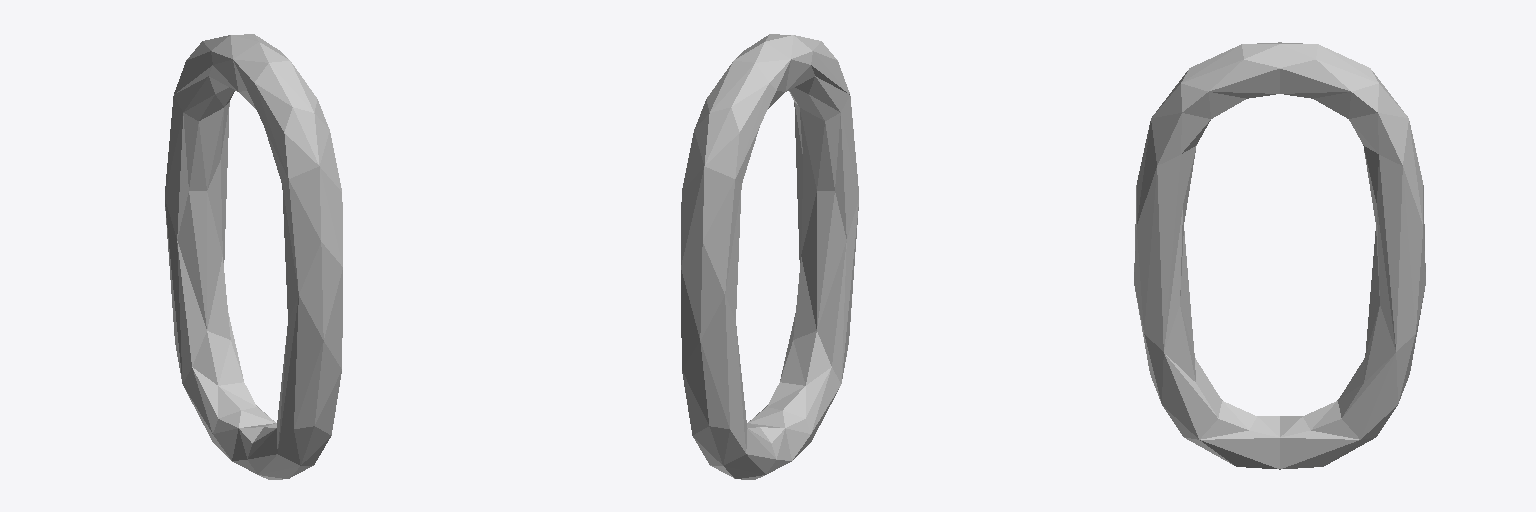
File: chain_link.obj
The picture shows the model from 3 angles: view 1: azimuth 30°, elevation 25°; view 2: azimuth 150°, elevation 25°; view 3: azimuth 270°, elevation 25°; orthographic projection.
Visible parts, largest first — view 1: chain_link; view 2: chain_link; view 3: chain_link.
Part boxes in pixels (bbox=[...]): chain_link: bbox=[165, 34, 342, 479]; chain_link: bbox=[681, 34, 858, 479]; chain_link: bbox=[1134, 42, 1425, 469].
Bounding box in the file's own units: 0.0051 × 0.0401 × 0.0249.